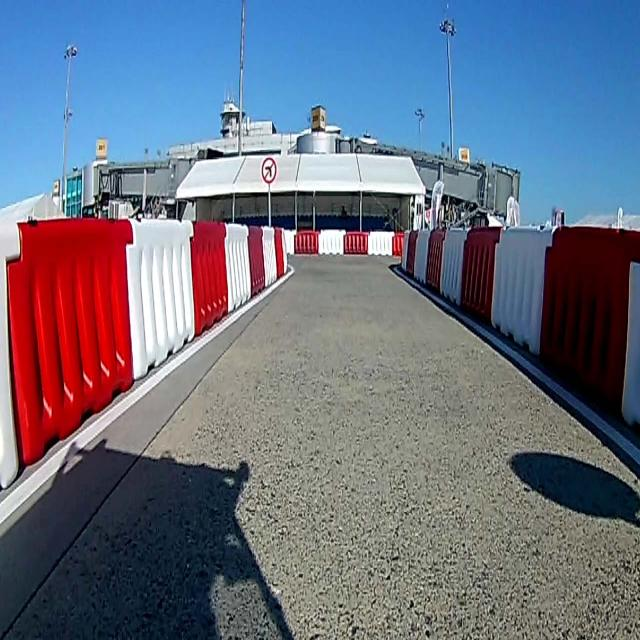soladonulmez: (260, 153, 278, 184)
